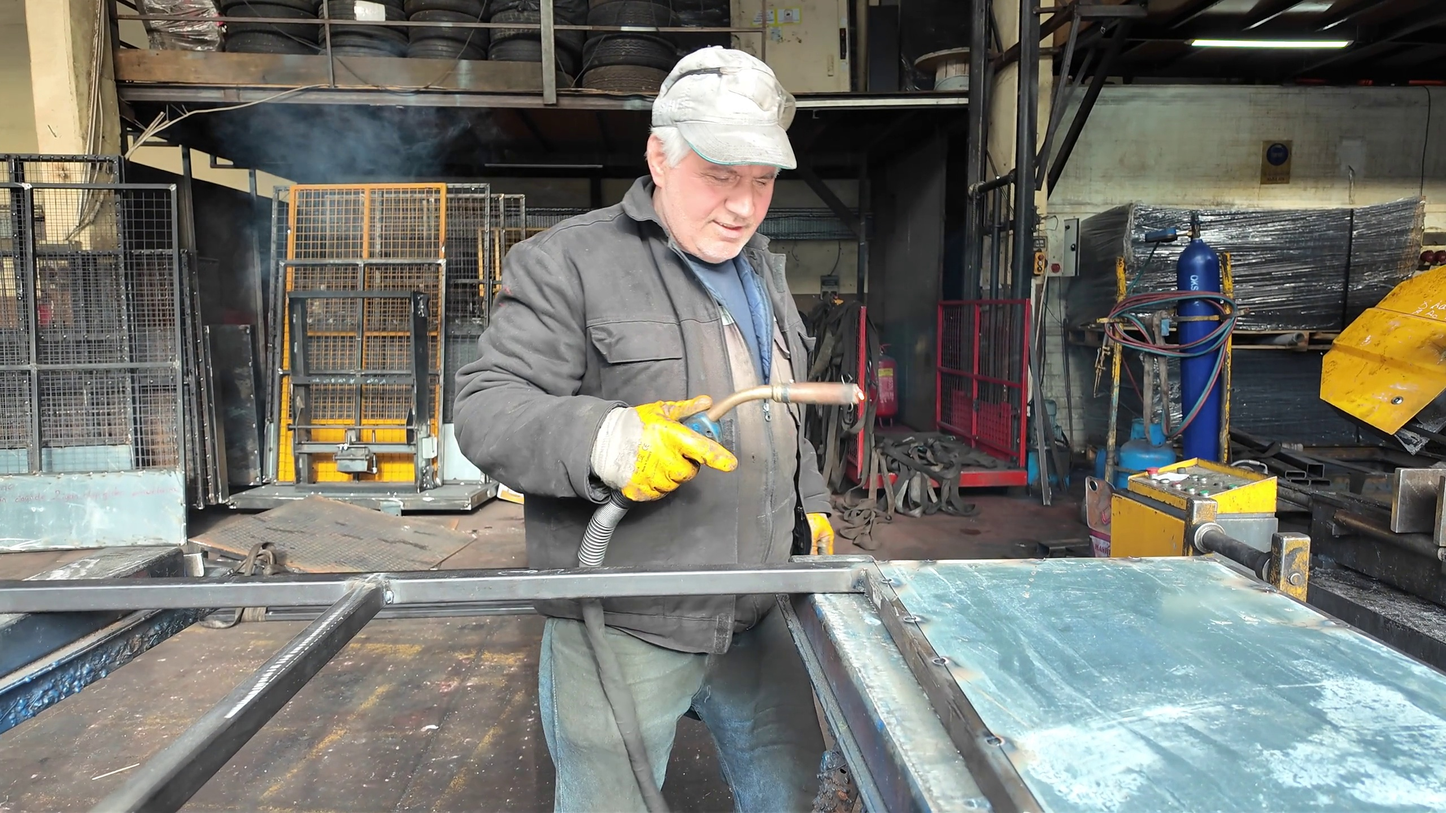person: (452, 45, 834, 813)
